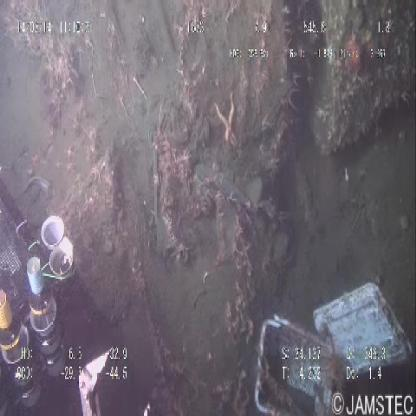Rov: (1, 140, 158, 416)
Rác: (245, 266, 415, 416)
